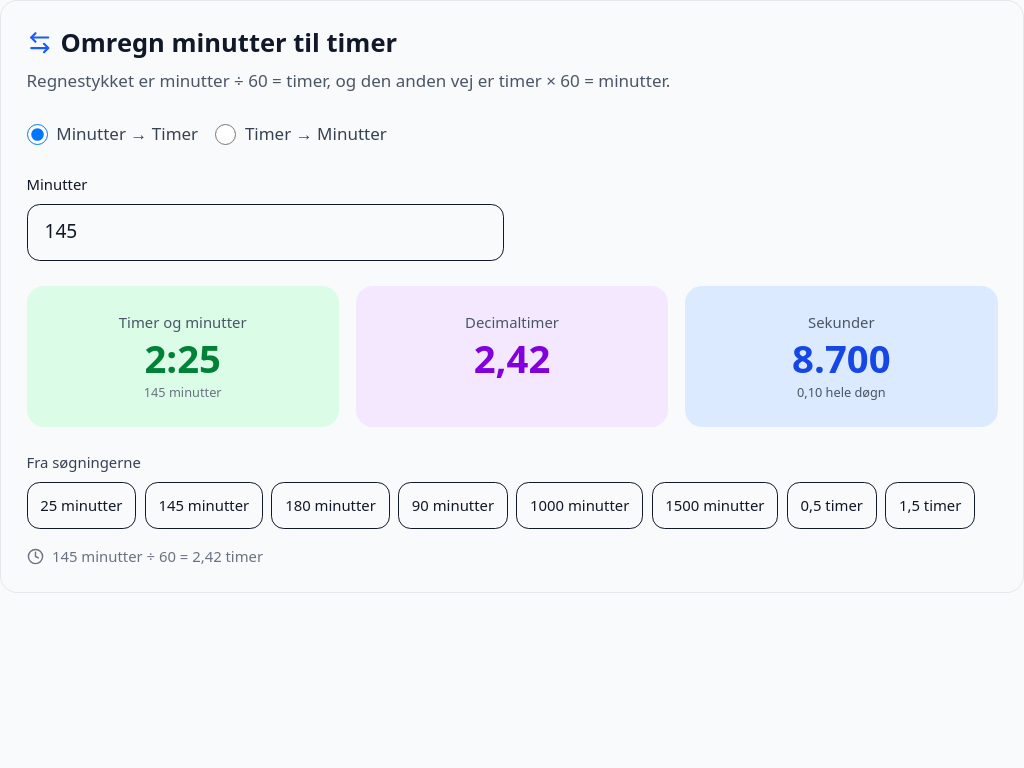
Test: MinutterTilTimerBeregner › et genvejstast sætter feltet, så læseren ser regnestykket ske
Click the button "25 minutter". click: point(81, 505)
box: x1=26 y1=482 x2=136 y2=529
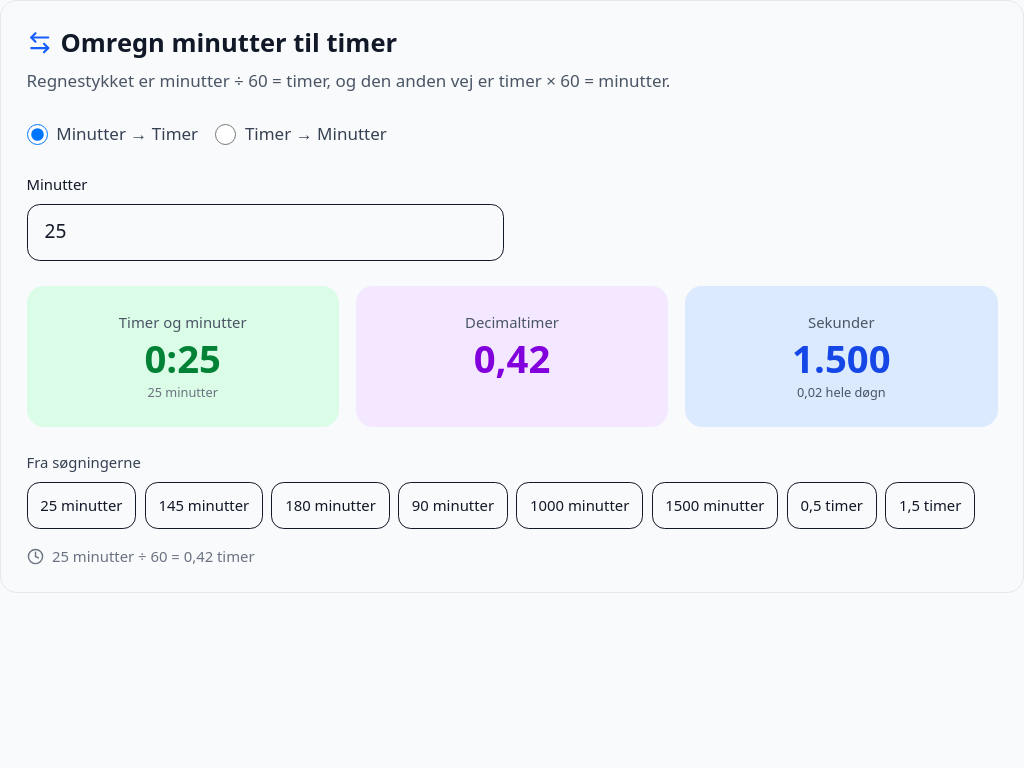
Result: the field labelled "Minutter" holds "25" at x1=26 y1=204 x2=504 y2=261
Result: the text "0:25" is shown at x1=144 y1=332 x2=221 y2=384
Result: the text "25 minutter ÷ 60 = 0,42 timer" is shown at x1=52 y1=546 x2=255 y2=567
